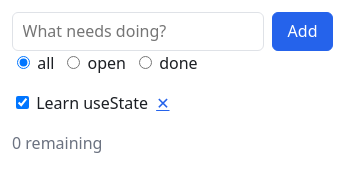
Test: TodoList › adds, completes and deletes todos
Type "Write tests" into the field named "new todo".
click(138, 31); type("Write tests")  # box [12,12,264,51]
Then press Enter
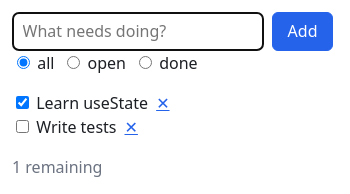
Expected: the text "Write tests" is shown, [12,115,116,139]
Expected: the text "1 remaining" is shown, [12,156,102,178]
Click the checkbox labelled "Write tests".
click(22, 126)  # box [16,120,29,133]
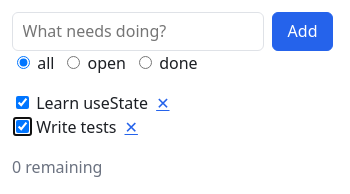
Expected: the text "0 remaining" is shown, [12,156,102,178]
Click the button named "delete Write tests".
click(131, 127)  # box [124,115,138,139]
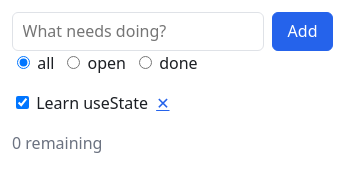
Expected: the text "Write tests" is gone
